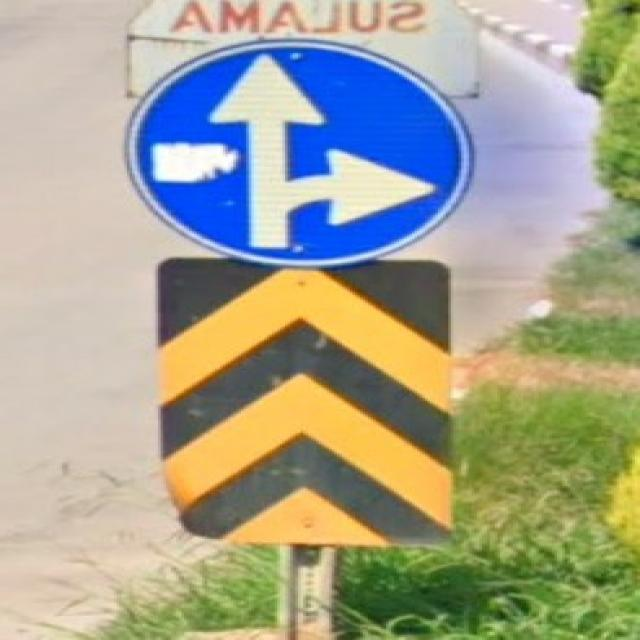Straight or Right: (126, 36, 473, 260)
